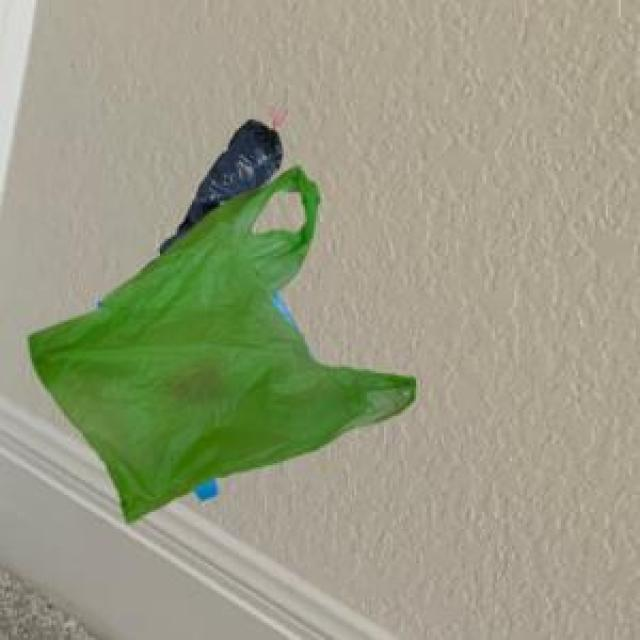miscellaneous trash: (156, 115, 277, 250)
